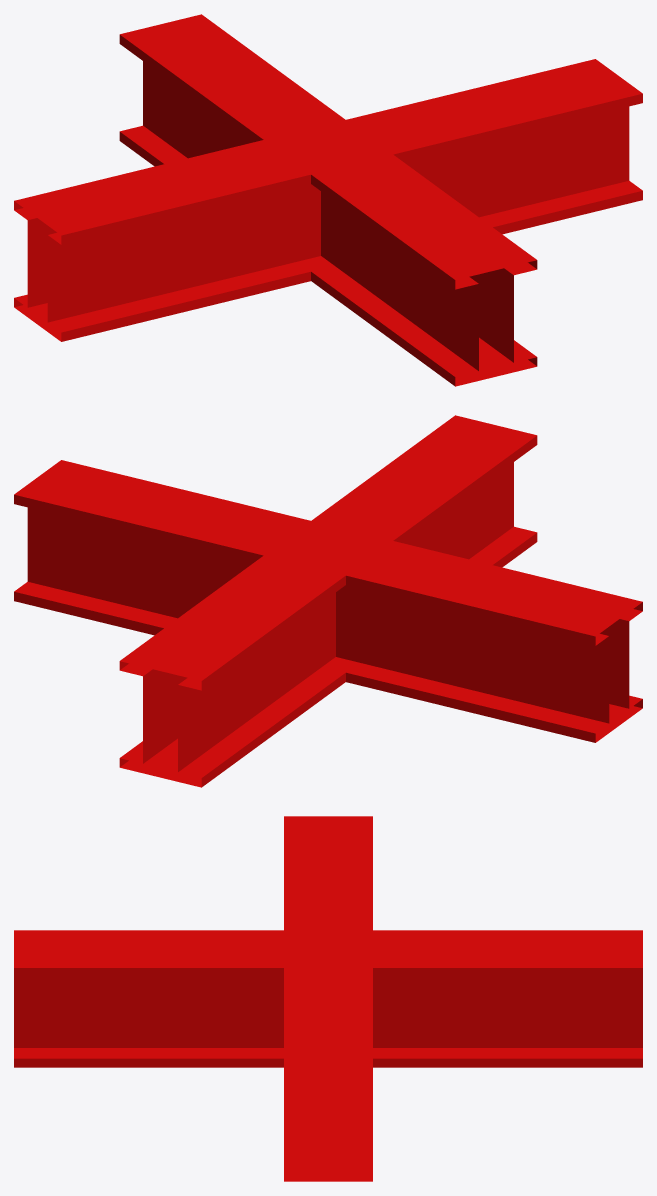
The model's file is GirderB_SM.fbx.
3 renders of one model, top to bottom at view 1: azimuth 30°, elevation 25°; view 2: azimuth 150°, elevation 25°; view 3: azimuth 270°, elevation 25°, orthographic. The views are drawn at different scales.
Visible parts, largest first — view 1: polySurface1, pasted__pCube4, pCube4; view 2: pasted__pCube4, polySurface1, pCube4; view 3: pCube4, polySurface1, pasted__pCube4.
Boxes of the visible parts, <box> form: polySurface1: <box>14,15,642,385</box>; pasted__pCube4: <box>14,59,642,341</box>; pCube4: <box>119,14,537,386</box>; pasted__pCube4: <box>14,460,642,742</box>; polySurface1: <box>14,415,642,785</box>; pCube4: <box>119,415,537,787</box>; pCube4: <box>14,930,642,1067</box>; polySurface1: <box>14,816,642,1181</box>; pasted__pCube4: <box>284,816,372,1181</box>.
Size of the model in its own units: 400 by 70 by 400.
